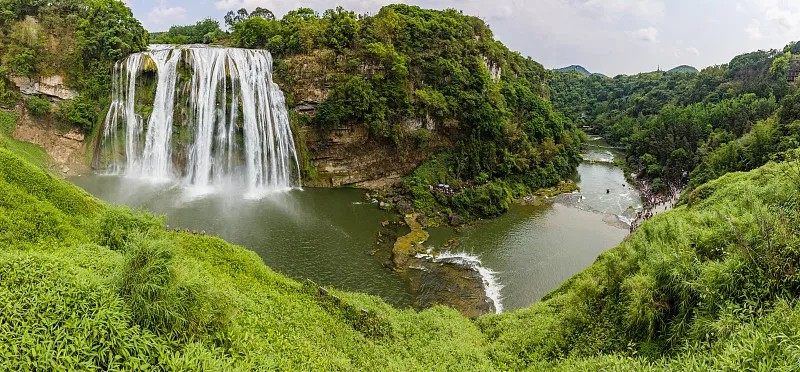Huangguoshu: (104, 43, 306, 186)
